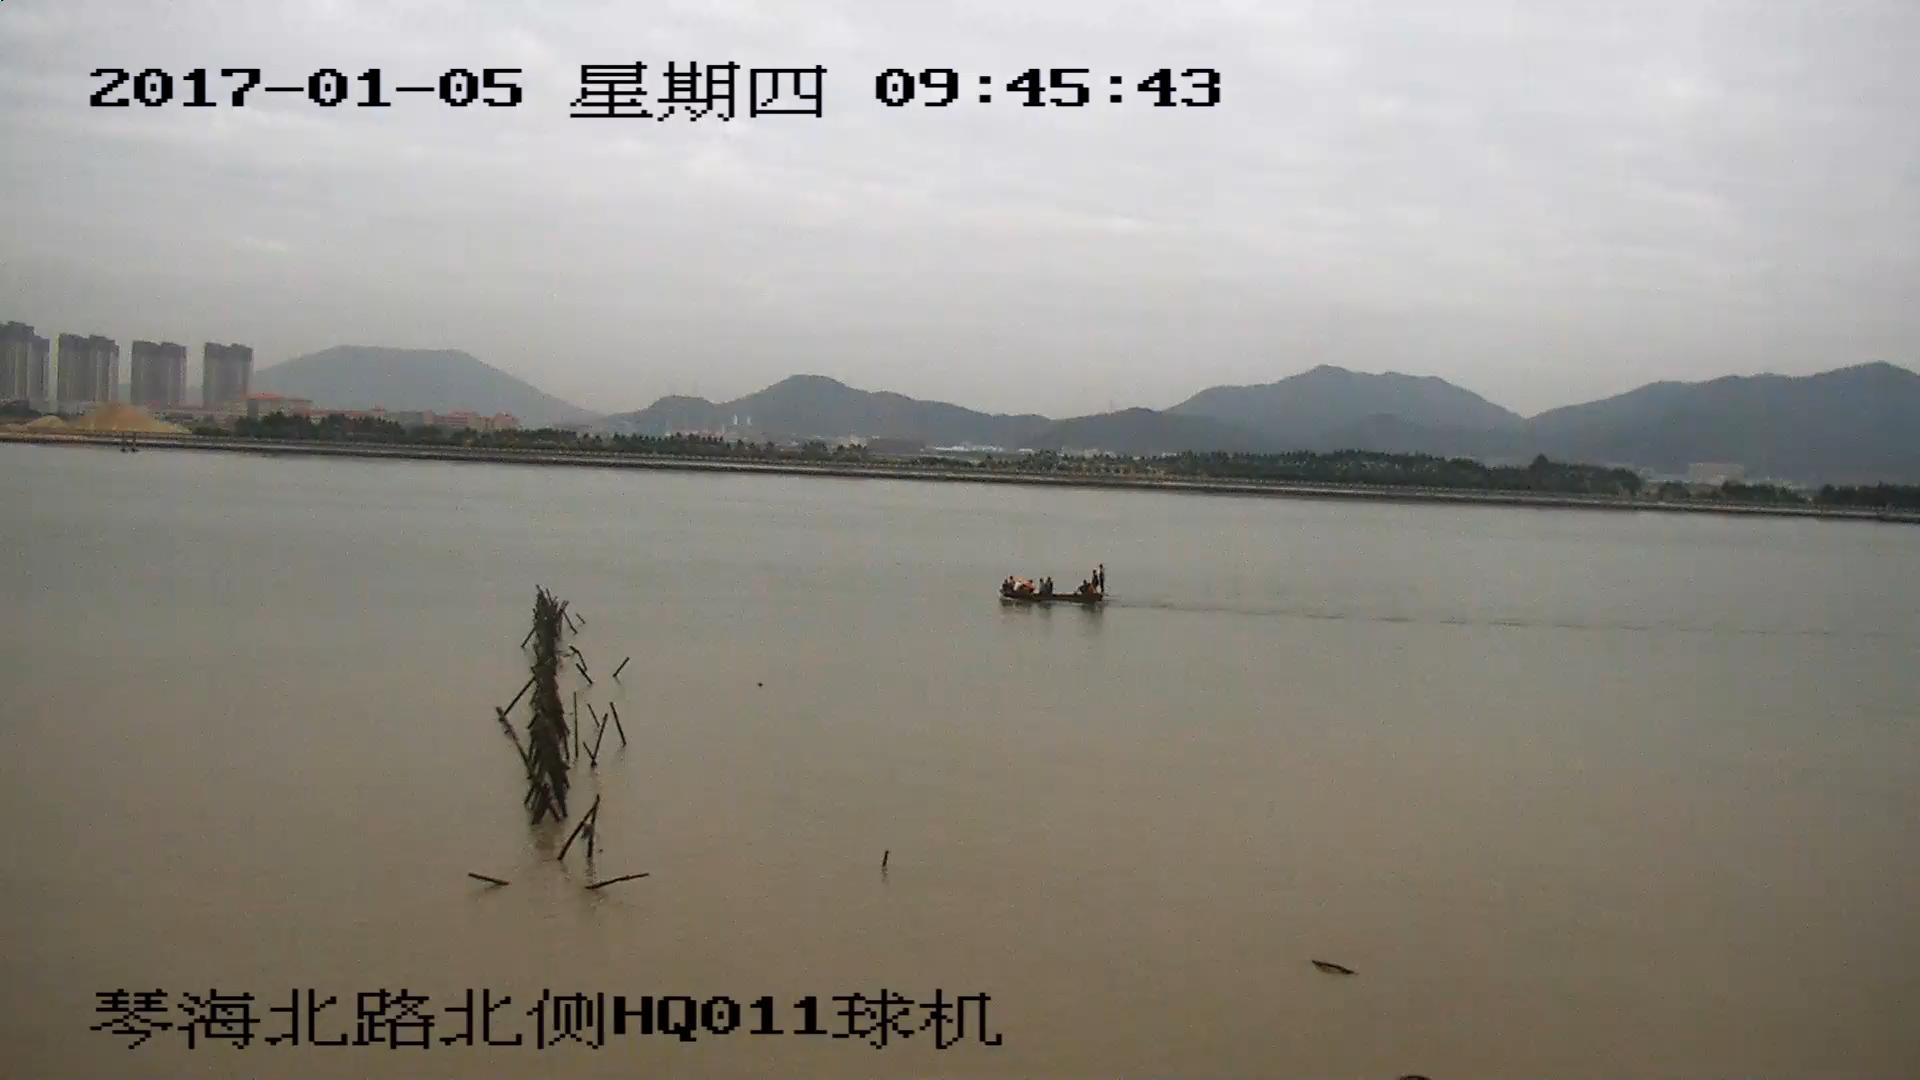fishing boat: (999, 565, 1109, 607)
